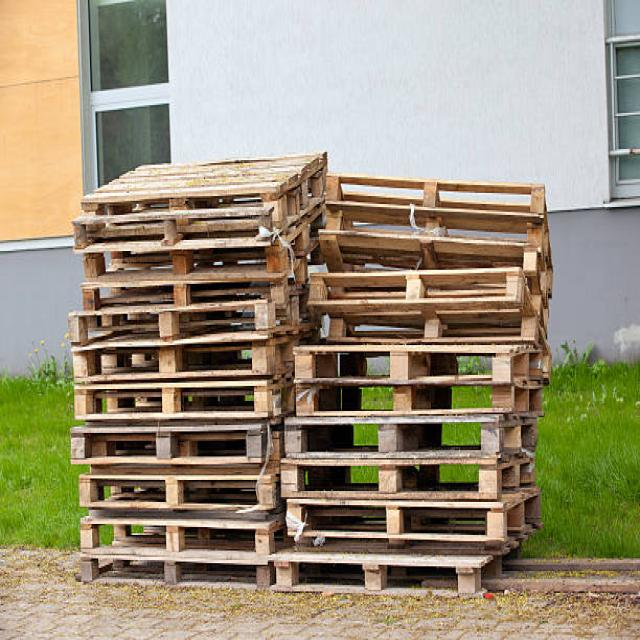Wooden-Pallets: (79, 147, 329, 218), (72, 208, 330, 275), (67, 499, 280, 566), (278, 448, 512, 503), (290, 341, 530, 392), (270, 549, 485, 603), (67, 298, 295, 348), (62, 424, 260, 475)
